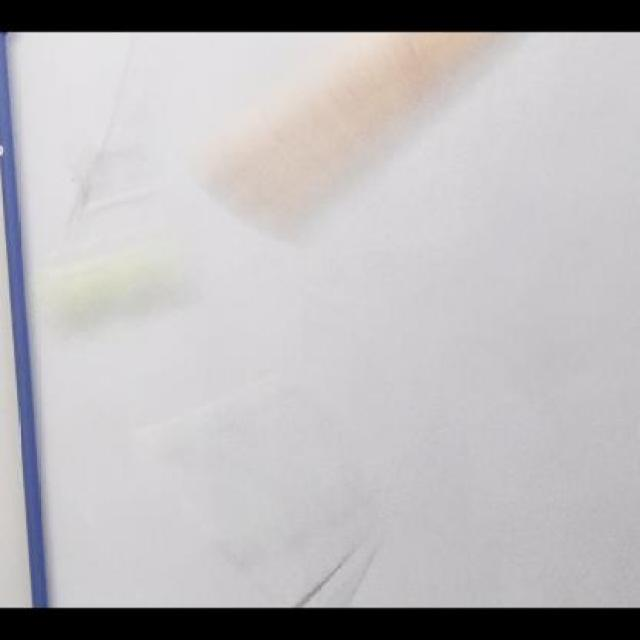baseball: (42, 258, 190, 338)
